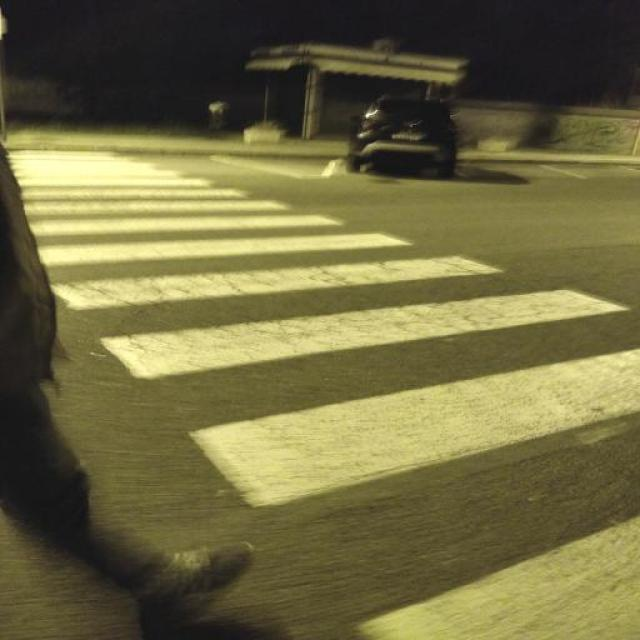crosswalk: (5, 151, 640, 640)
